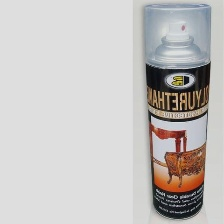aerosol_cans: (141, 1, 214, 221)
